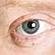eye: (23, 20, 39, 34)
